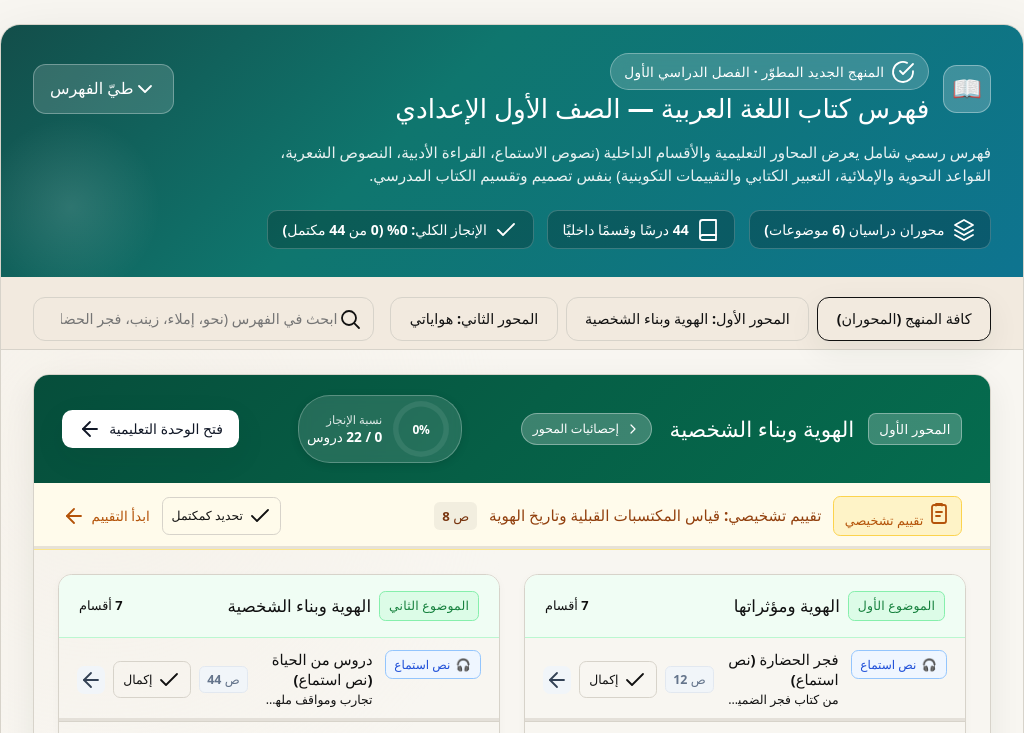
Test: فهرس منهج اللغة العربية للصف الأول الإعدادي (Prep 1 Arabic Index Viewer) › يصفي الفهرس حسب التبويب المختار (المحور الأول أو المحور الثاني)
# النقر على تبويب المحور الأول
Click the tab "المحور الأول: الهوية وبناء الشخصية": (687, 319) [566, 297, 809, 341]
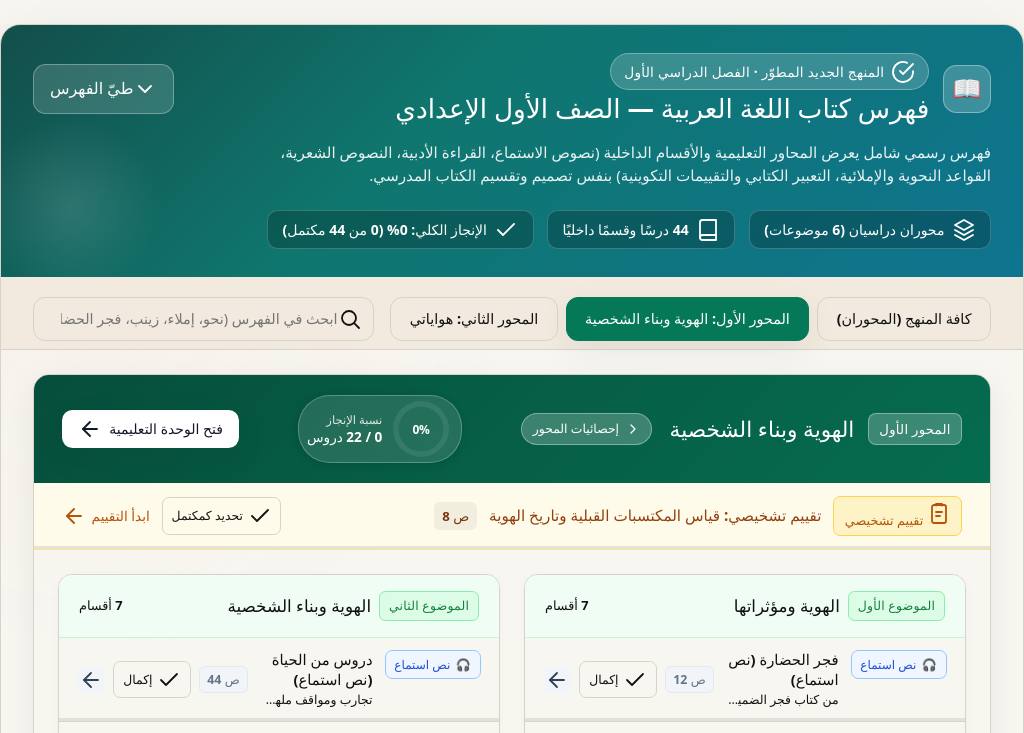
Expected: the heading "الهوية ومؤثراتها" is shown, [734, 595, 840, 617]
Expected: the text "الرياضة" is not shown
# النقر على تبويب المحور الثاني
Click the tab "المحور الثاني: هواياتي": (474, 319) [390, 297, 558, 341]
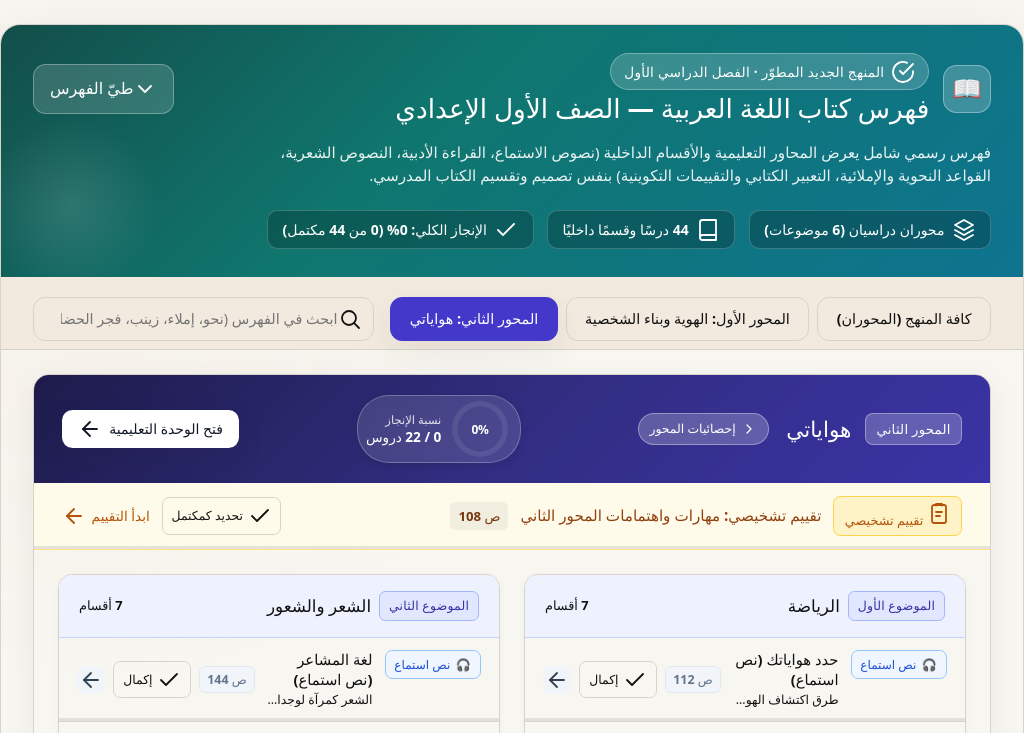
Expected: the heading "الرياضة" is shown, [788, 595, 840, 617]
Expected: the heading "الهوية ومؤثراتها" is gone
